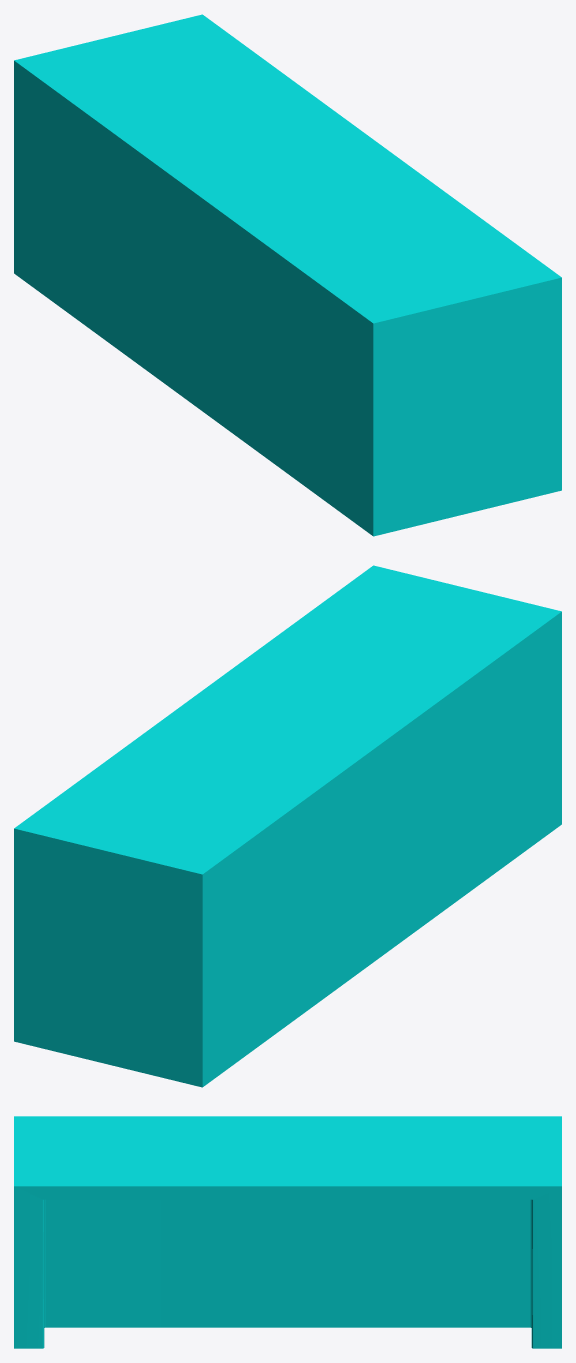
The model's file is wall_type_B_sub_01.fbx.
3 renders of one model, top to bottom at view 1: azimuth 30°, elevation 25°; view 2: azimuth 150°, elevation 25°; view 3: azimuth 270°, elevation 25°, orthographic. The views are drawn at different scales.
Visible parts, largest first — view 1: wall_type_B_sub_01; view 2: wall_type_B_sub_01; view 3: wall_type_B_sub_01.
Part boxes in pixels (box(x1,y1,x2,y2)): wall_type_B_sub_01: box(14, 14, 561, 536); wall_type_B_sub_01: box(14, 565, 561, 1087); wall_type_B_sub_01: box(14, 1116, 561, 1348).
Size of the model in its own units: 121 by 131 by 400.
